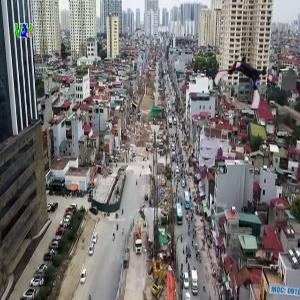drone: (214, 51, 274, 111)
